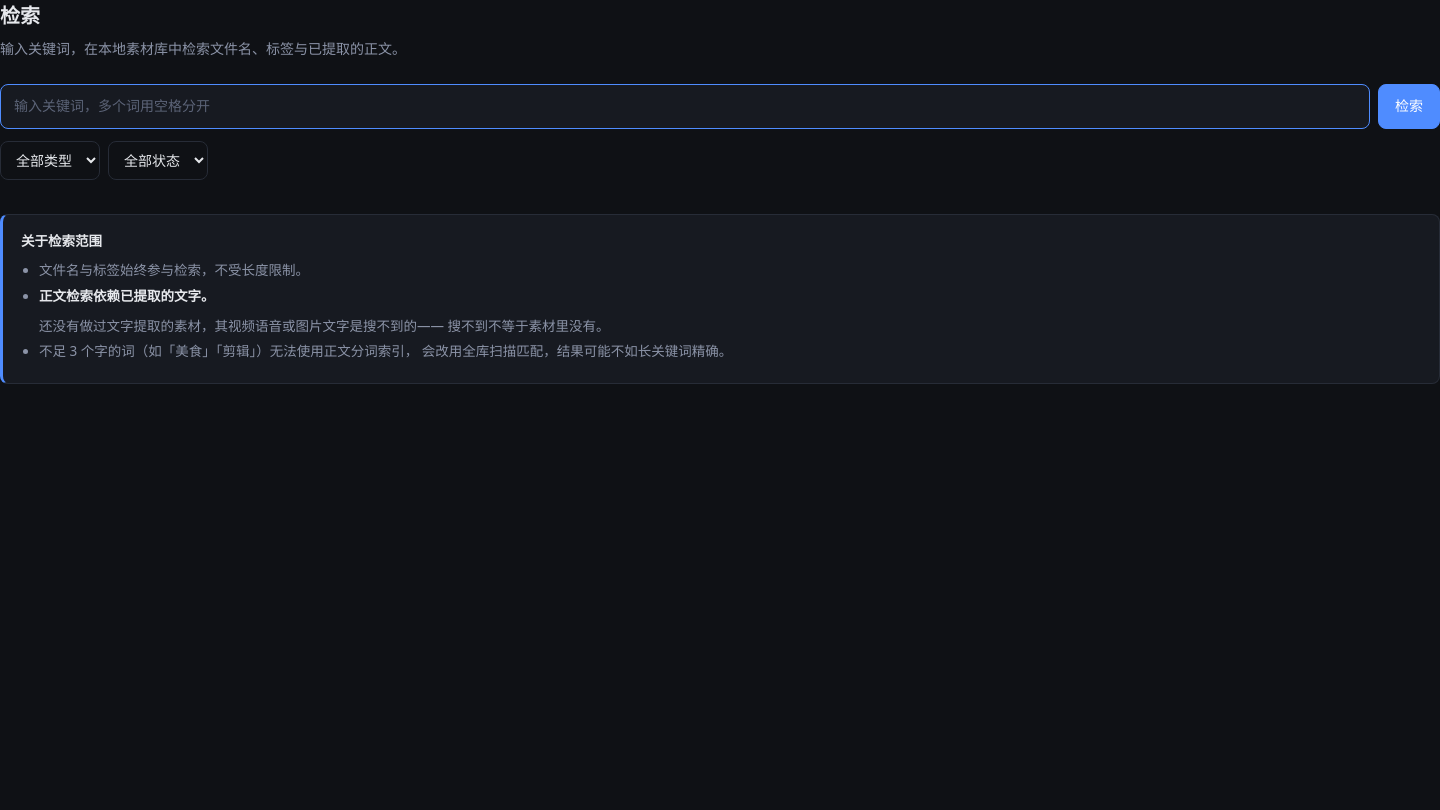
Scenario: 检索页 › 默认只显示最相关的三段，展开铺开全部，收起再还原
The image size is (1440, 810).
In the search field: (685, 107) [0,84,1370,129], type "火锅店"
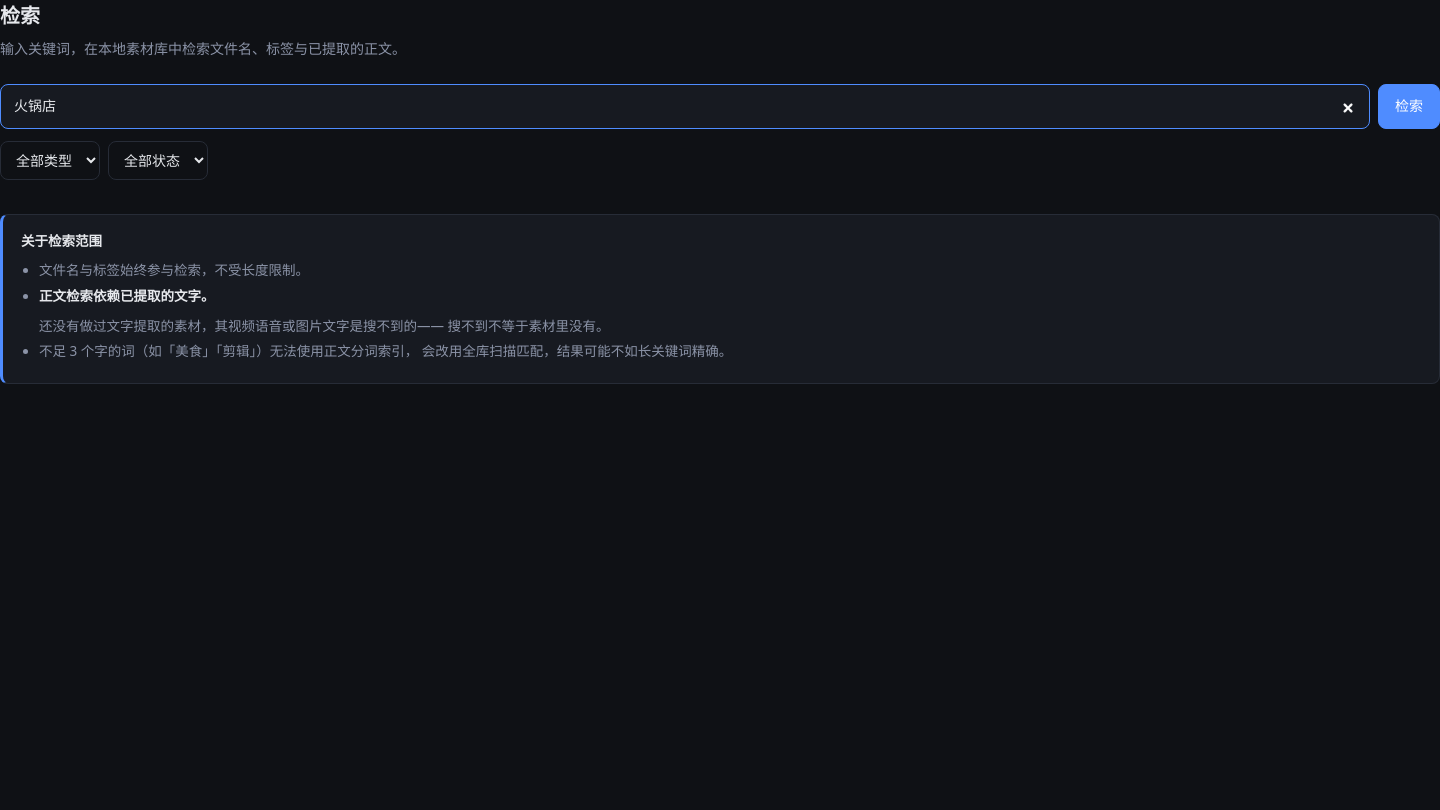
Click the button "检索": (1409, 107) [1378,84,1439,129]
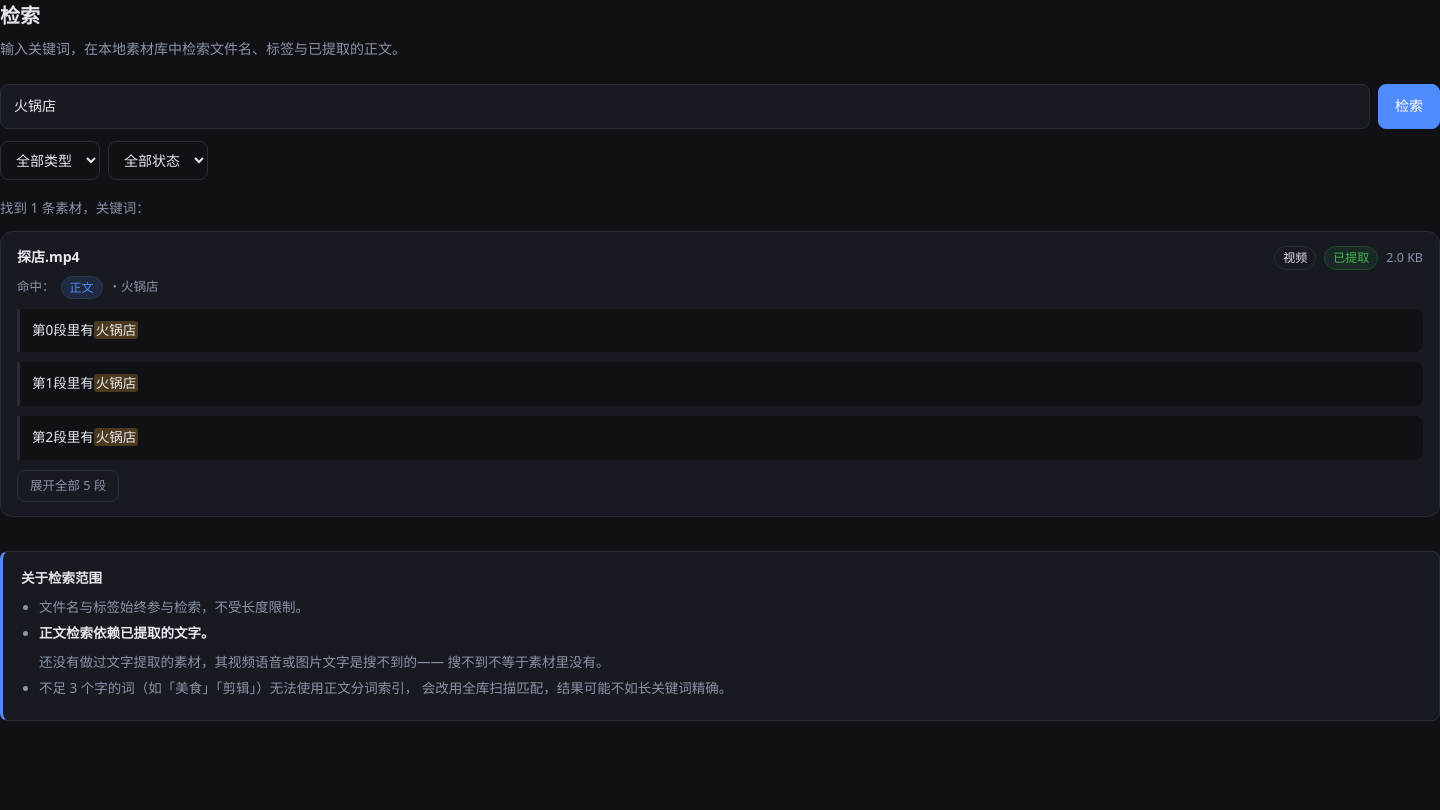
Check: the text "第3段里有" is not shown
Check: the text "第0段里有" is shown, box [32,321,94,339]
Check: the text "第2段里有" is shown, box [32,428,94,446]
// 命中总数写在按钮上：点之前就知道展开会多看到多少，不必先点开数一遍
Click the button "展开全部 5 段": (68, 486) [17,470,119,502]
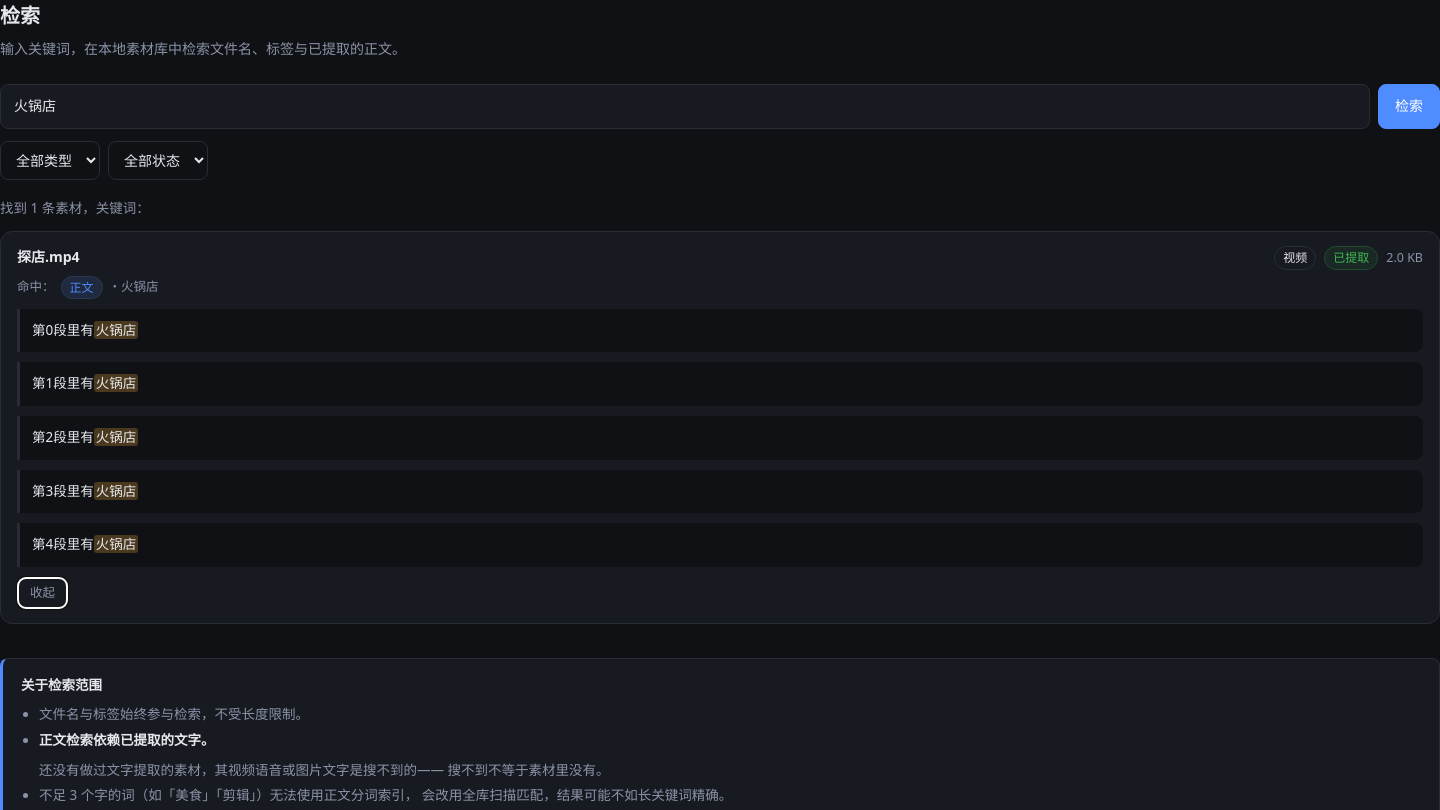
Check: the text "第4段里有" is shown, box [32,535,94,553]
Check: the button "展开全部 5 段" is gone
// 收起回到「只看三段」，而不是留在展开态
Click the button "收起": (42, 593) [17,577,68,609]
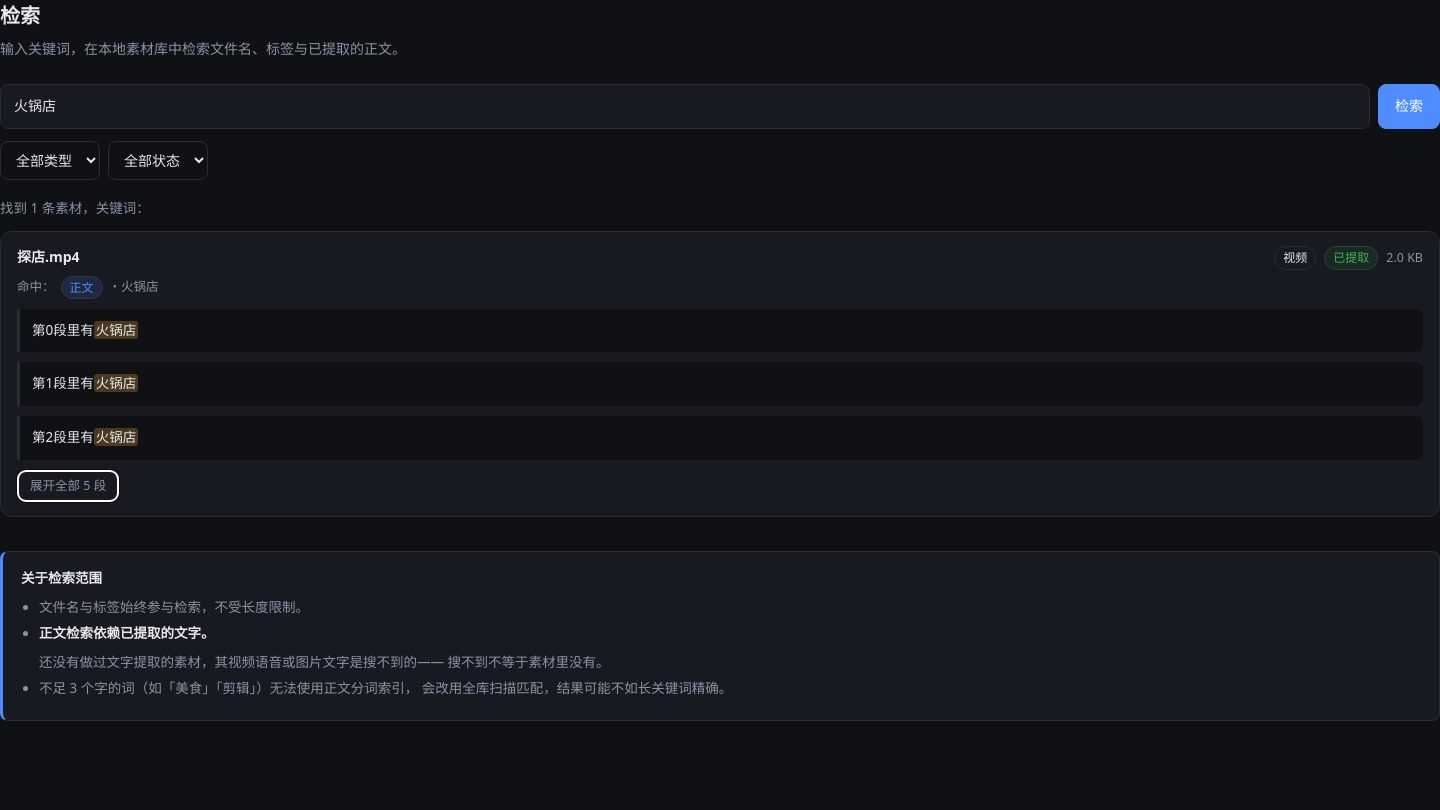
Check: the text "第0段里有" is shown, box [32,321,94,339]
Check: the text "第4段里有" is gone
